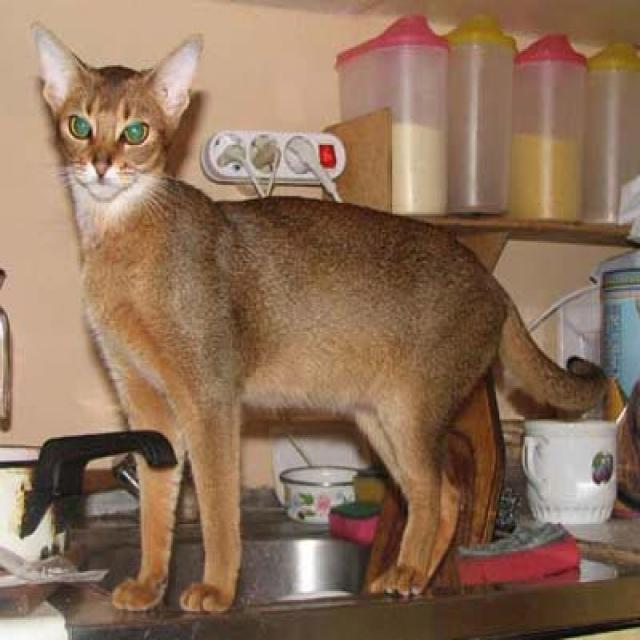Abyssinian: (31, 20, 202, 198)
